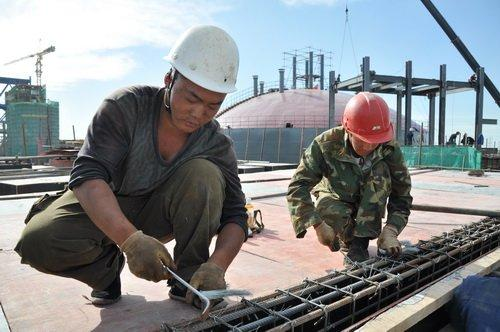helmet: (168, 24, 243, 93), (344, 94, 396, 145)
